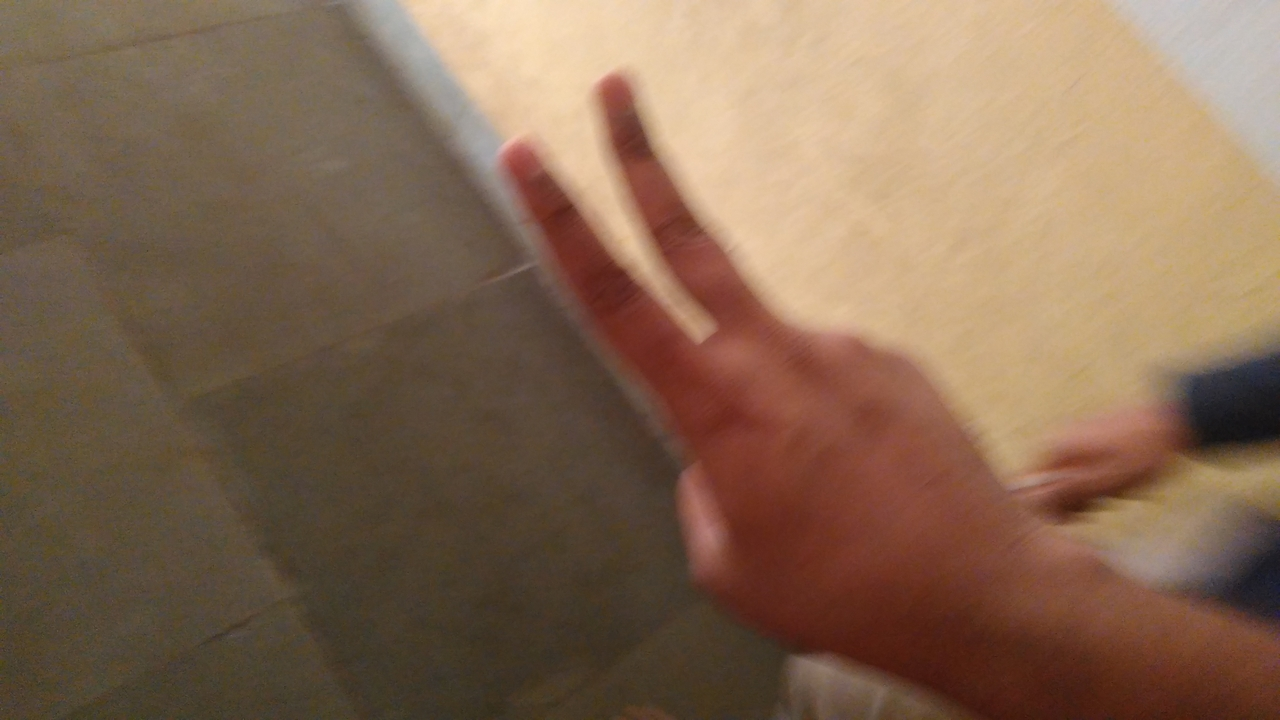fingertip: (486, 131, 556, 180), (588, 68, 646, 116)
